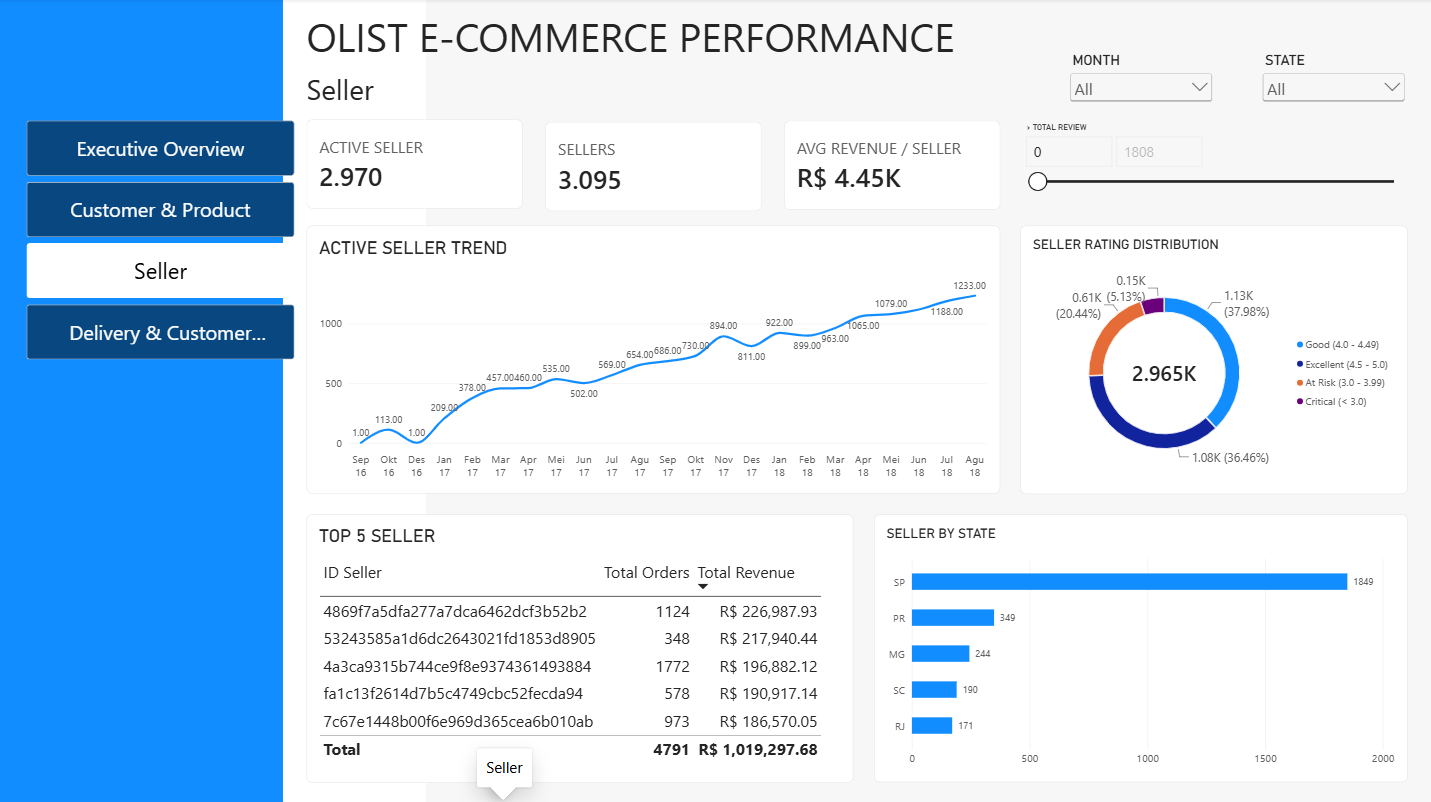

What the dashboard file says about the page in this screenshot:
{"tool":"powerbi","page":{"name":"Seller","canvas":[1920,1080],"ordinal":2},"visuals":[{"type":"shape","box":[0,0,397.3,1080.6],"z":0},{"type":"shape","box":[380.9,0,192,1080.1],"z":1000},{"type":"textbox","box":[411.7,14.4,913.9,82.3],"z":2000},{"type":"textbox","box":[411.7,96.7,913.9,53.5],"z":3000},{"type":"cardVisual","fields":{"Data":["Key_Measure.Format Total Sellers"]},"box":[732.6,165.7,290,120],"z":4000},{"type":"cardVisual","fields":{"Data":["Key_Measure.Format Active Seller"]},"box":[411.7,162.6,290,120],"z":5000},{"type":"cardVisual","fields":{"Data":["Key_Measure.Avg Revenue / Seller"]},"box":[1051.7,164,290,120.3],"z":6000},{"type":"lineChart","title":"ACTIVE SELLER TREND","fields":{"Category":["dim_date.Month Year"],"Y":["Key_Measure.Active Sellers"]},"box":[411.6,305.2,929.7,359.3],"z":7000},{"type":"barChart","title":"SELLER BY STATE","fields":{"Category":["vw_dim_sellers.seller_state"],"Y":["Key_Measure.Total Sellers"]},"box":[1172.9,691.9,715.1,359.3],"z":8000},{"type":"slicer","fields":{"Values":["dim_date.Month Year"]},"box":[1430.5,72,200,89.2],"z":9000},{"type":"slicer","fields":{"Values":["vw_dim_customers.customer_state"]},"box":[1687.8,72,200,89.2],"z":10000},{"type":"pageNavigator","box":[36.7,164.3,360,321.5],"z":11000},{"type":"tableEx","title":"TOP 5 SELLER","fields":{"Values":["vw_fact_sales.seller_id","Key_Measure.Total Orders","Key_Measure.Total Revenue"]},"box":[411.7,691.6,732.8,360.2],"z":12000},{"type":"donutChart","title":"SELLER RATING DISTRIBUTION","fields":{"Category":["vw_dim_sellers.rating_tier"],"Y":["CountNonNull(vw_dim_sellers.seller_id)"]},"box":[1368.4,304.8,519.2,360.1],"z":13000},{"type":"slicer","fields":{"Values":["vw_dim_sellers.total_reviews"]},"box":[1368.4,165.8,519.2,117.2],"z":13001}]}

Visuals, with their boxes on the page's 1920x1080 design canvas (x1, y1, x2, y2). These are canvas units, not pixel positions in the 1431x802 screenshot, which may show the page scaled, cropped or inside an application window:
shape: <box>0,0,397,1081</box>
shape: <box>381,0,573,1080</box>
textbox: <box>412,14,1326,97</box>
textbox: <box>412,97,1326,150</box>
cardVisual - Key_Measure.Format Total Sellers: <box>733,166,1023,286</box>
cardVisual - Key_Measure.Format Active Seller: <box>412,163,702,283</box>
cardVisual - Key_Measure.Avg Revenue / Seller: <box>1052,164,1342,284</box>
"ACTIVE SELLER TREND" lineChart: <box>412,305,1341,664</box>
"SELLER BY STATE" barChart: <box>1173,692,1888,1051</box>
slicer - dim_date.Month Year: <box>1430,72,1630,161</box>
slicer - vw_dim_customers.customer_state: <box>1688,72,1888,161</box>
pageNavigator: <box>37,164,397,486</box>
"TOP 5 SELLER" tableEx: <box>412,692,1144,1052</box>
"SELLER RATING DISTRIBUTION" donutChart: <box>1368,305,1888,665</box>
slicer - vw_dim_sellers.total_reviews: <box>1368,166,1888,283</box>
